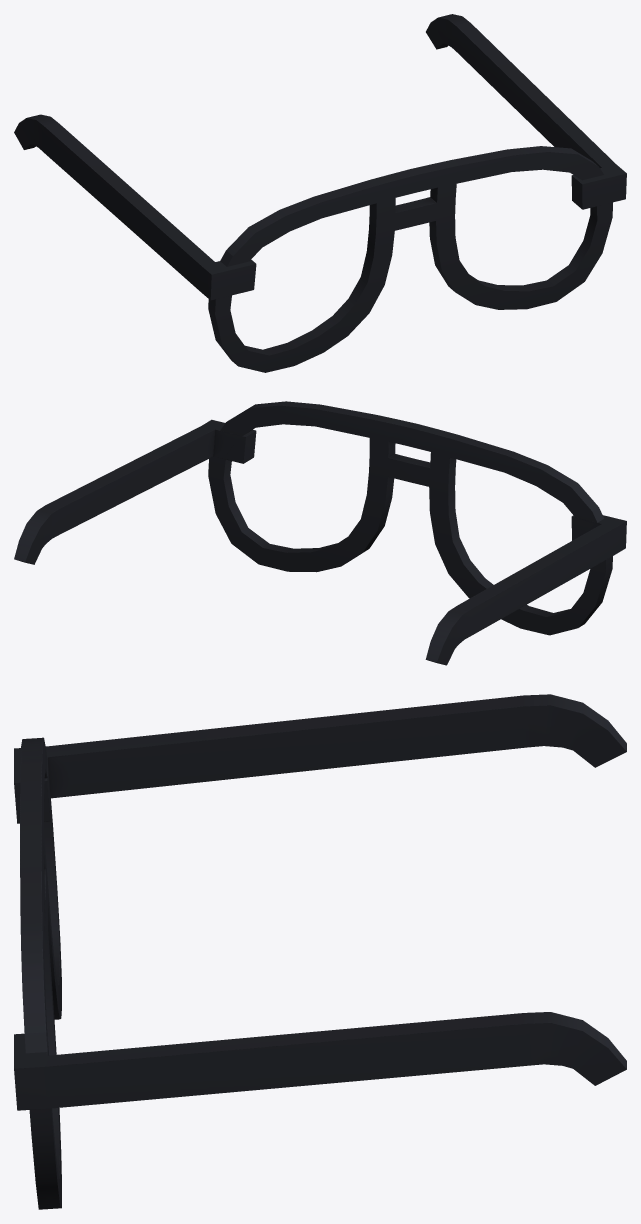
Rendered from SM_MISC_Glasses_Aviator.fbx.
3 views of the same model, one above another, from view 1: azimuth 30°, elevation 25°; view 2: azimuth 150°, elevation 25°; view 3: azimuth 270°, elevation 25° (orthographic). The views are drawn at different scales.
Parts seen in each view (by area): view 1: MISC_Glasses_Aviator; view 2: MISC_Glasses_Aviator; view 3: MISC_Glasses_Aviator.
Boxes of the visible parts, left/top/right/bottom form: MISC_Glasses_Aviator: left=14, top=14, right=626, bottom=372; MISC_Glasses_Aviator: left=14, top=401, right=626, bottom=665; MISC_Glasses_Aviator: left=14, top=694, right=626, bottom=1209.
Size of the model in its own units: 57.75 by 21.81 by 45.54.
1 material, 1 textured.
